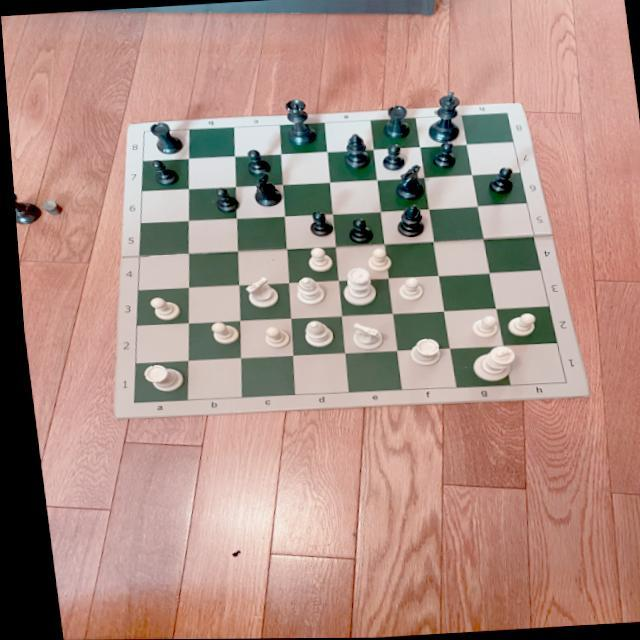chess-table-corners: (552, 376, 571, 388), (120, 396, 135, 409), (132, 130, 149, 138), (494, 111, 513, 118)
